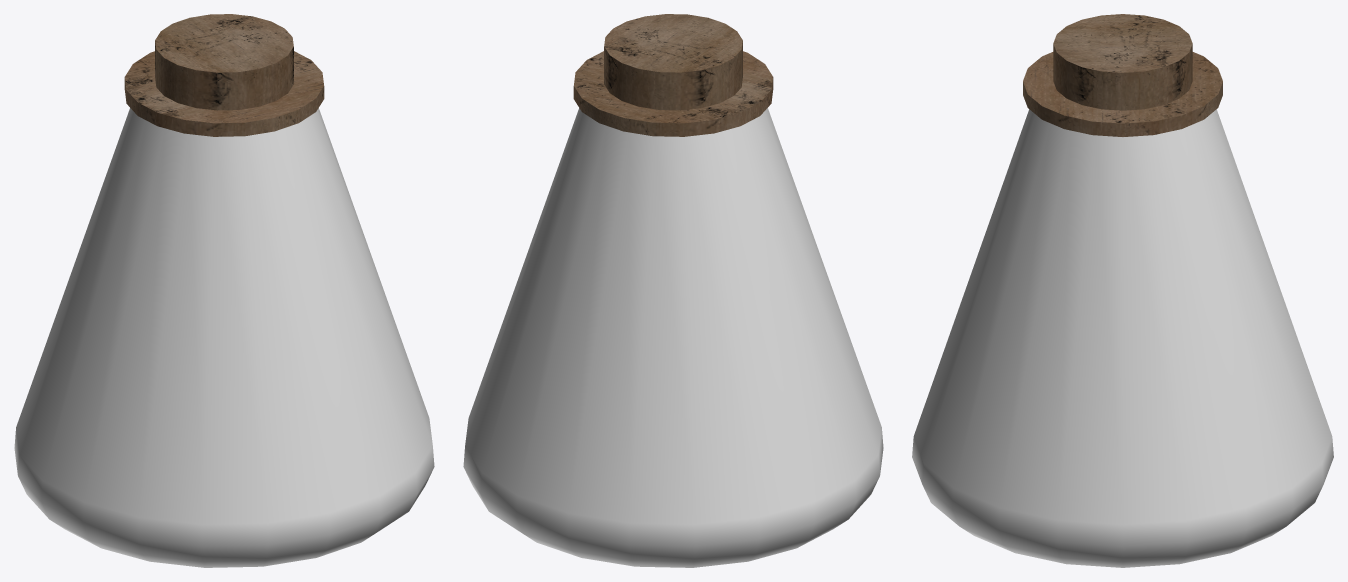
File: HEALTH_POTION_USE this.fbx
The picture shows the model from 3 angles, left to right: view 1: azimuth 30°, elevation 25°; view 2: azimuth 150°, elevation 25°; view 3: azimuth 270°, elevation 25°; orthographic projection.
Parts seen in each view (by area): view 1: polySurface3, polySurface4; view 2: polySurface3, polySurface4; view 3: polySurface3, polySurface4.
Boxes of the visible parts, bbox=[...] form: polySurface3: bbox=[14, 108, 434, 567]; polySurface4: bbox=[124, 14, 324, 136]; polySurface3: bbox=[463, 108, 883, 567]; polySurface4: bbox=[573, 14, 773, 136]; polySurface3: bbox=[912, 109, 1333, 567]; polySurface4: bbox=[1023, 14, 1222, 136].
Size of the model in its own units: 4.51 by 5.33 by 4.51.
Materials: 4 (2 with a texture image).
